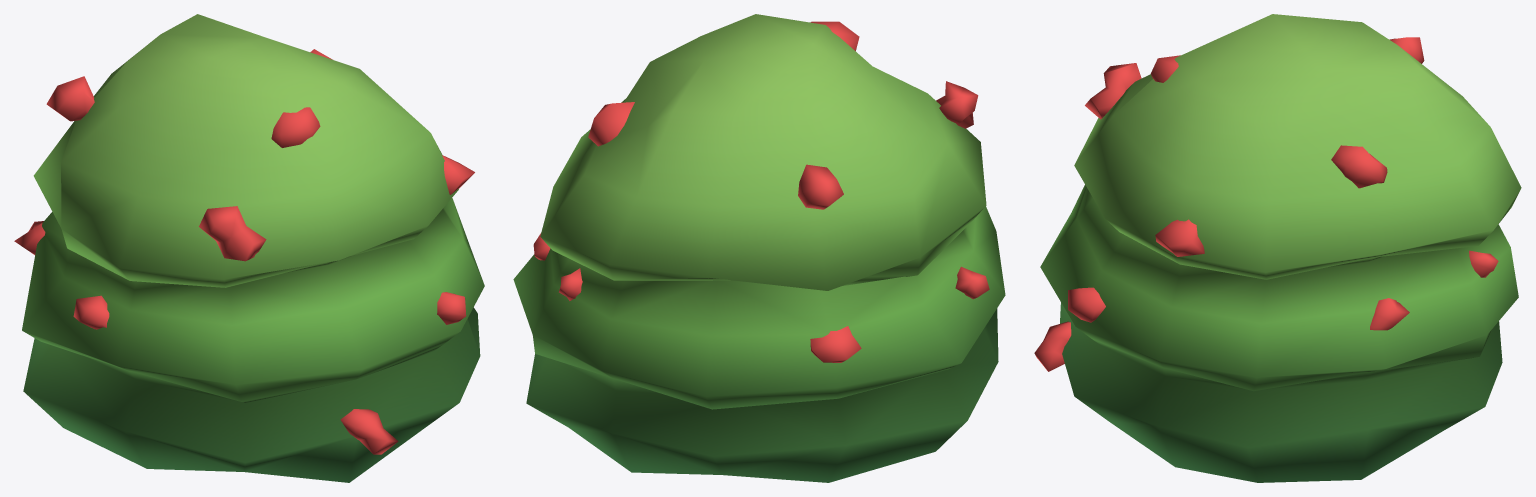
File: BushBerries_2.fbx
3 renders of one model, left to right at view 1: azimuth 30°, elevation 25°; view 2: azimuth 150°, elevation 25°; view 3: azimuth 270°, elevation 25°, orthographic. The views are drawn at different scales.
Visible parts, largest first — view 1: BushBerries_2; view 2: BushBerries_2; view 3: BushBerries_2.
Boxes of the visible parts, <box> form: BushBerries_2: <box>14,14,484,482</box>; BushBerries_2: <box>513,14,1005,482</box>; BushBerries_2: <box>1034,14,1521,482</box>.
Bounding box in the file's own units: 1.34 × 1.13 × 1.33.
